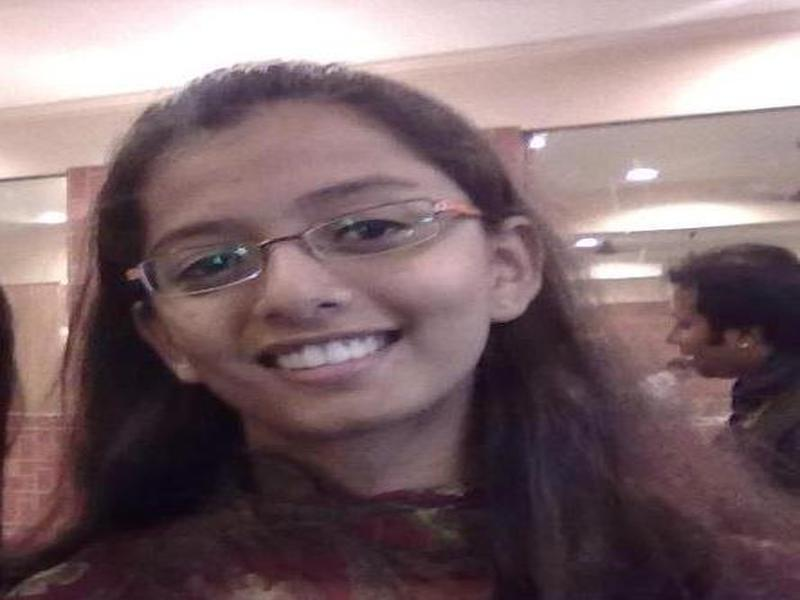without_mask: (131, 148, 495, 433)
